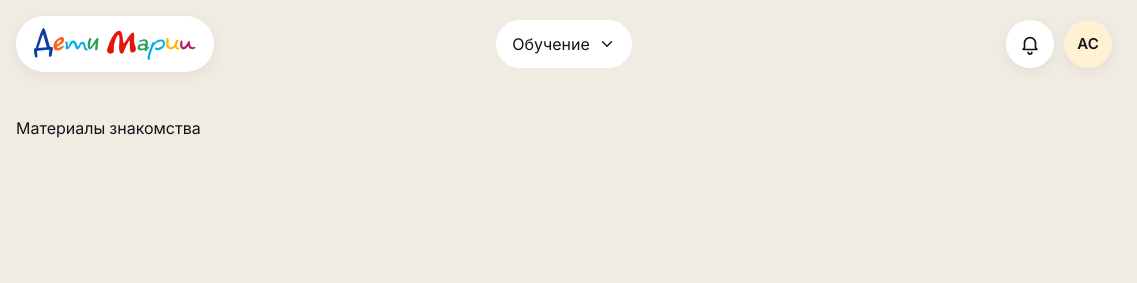
Test: provides verified users cabinet and a real server logout command
Expected: the button named "Уведомления" is shown, x1=1006 y1=20 x2=1054 y2=68
Click the button with aria-label "Аккаунт: Анна Смирнова" at (1088, 44), box x1=1064 y1=20 x2=1112 y2=68
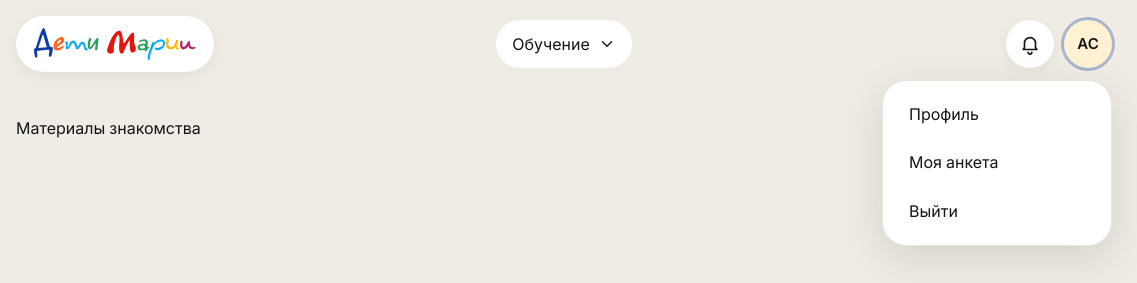
Click the button "Выйти" at (997, 211), box x1=893 y1=187 x2=1101 y2=235
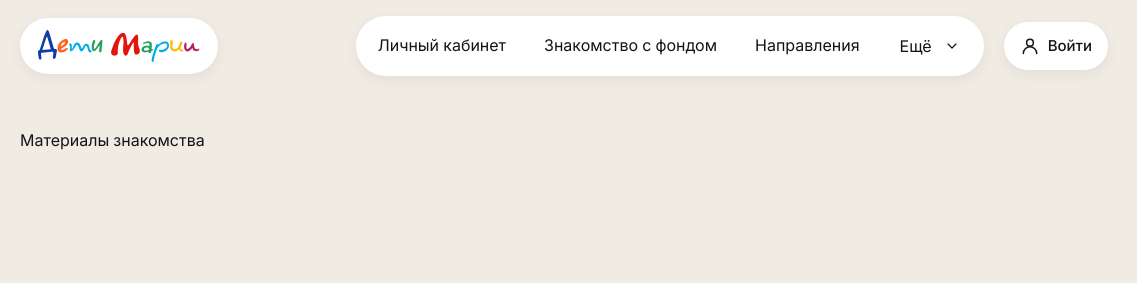
Expected: the link "Войти" is shown, x1=1004 y1=22 x2=1108 y2=70
